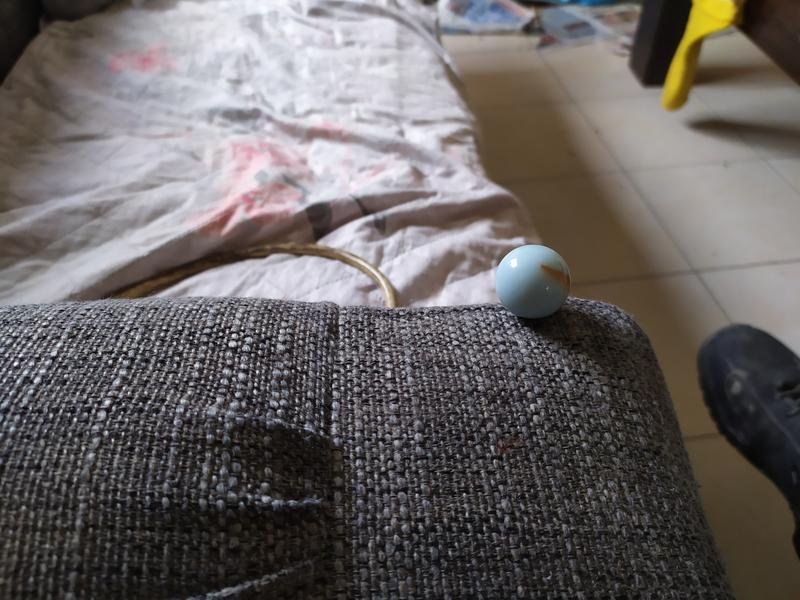Warning: (492, 242, 574, 321)
